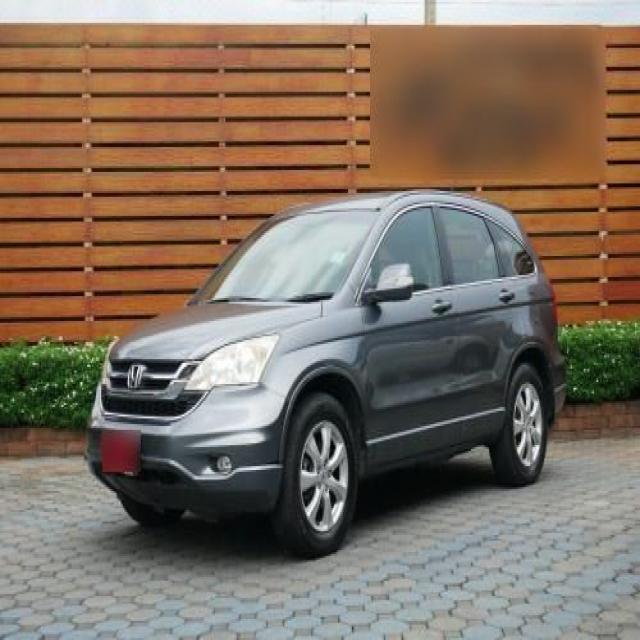back_left_door: (434, 202, 524, 442)
front_bumper: (87, 359, 293, 513)
front_glass: (189, 209, 380, 305)
front_left_door: (357, 202, 463, 456)
front_left_light: (185, 333, 280, 390)
hood: (109, 300, 322, 360)
left_mirror: (361, 263, 414, 305)
wheel: (273, 363, 548, 558)
